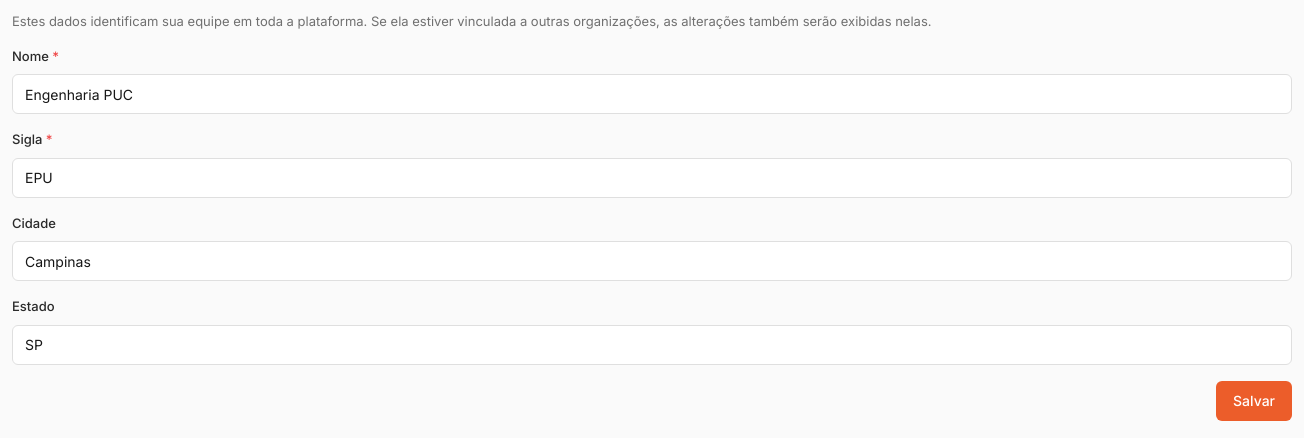
TeamRegistrationForm › blocks saving without a name
The image size is (1304, 438).
Clear the field labelled "Nome" at (652,94), box [12,74,1292,114]
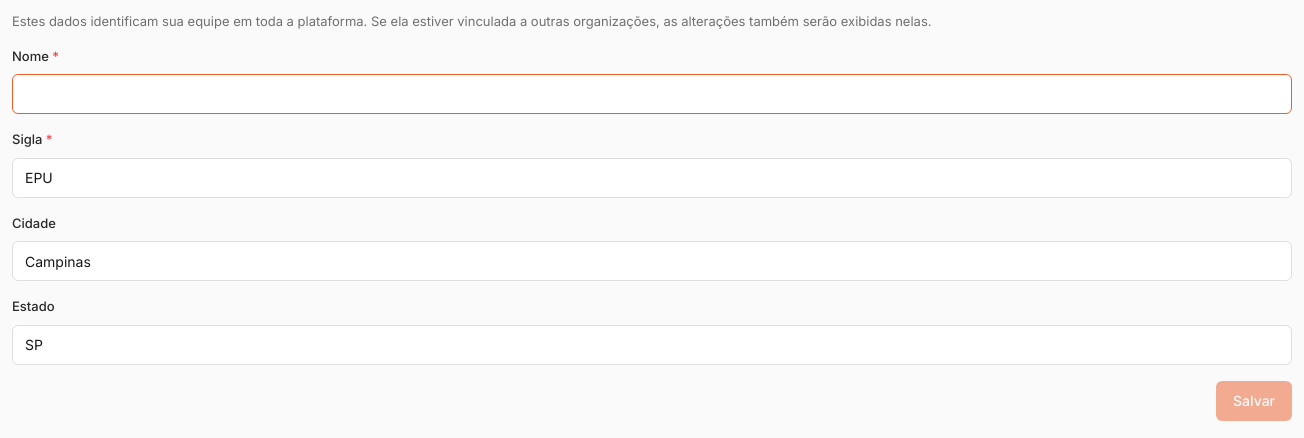
Expected: the button "Salvar" is disabled, [1216,381,1292,421]
